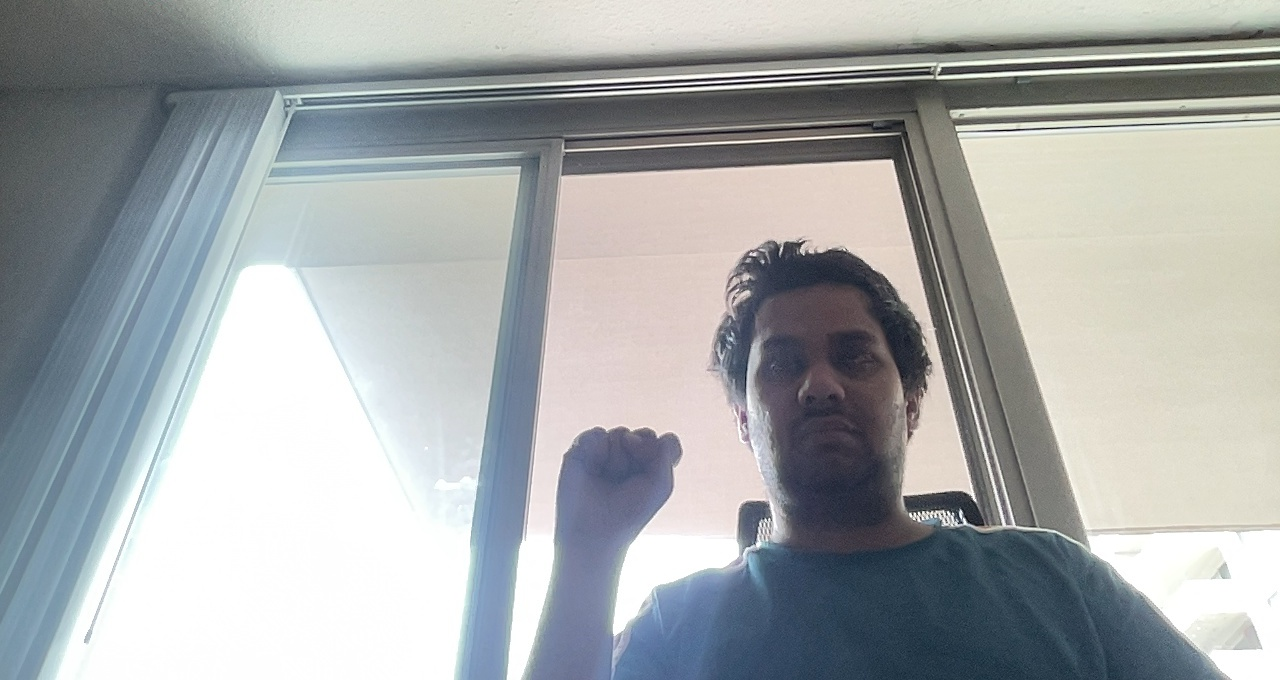closedfist: (556, 423, 684, 541)
